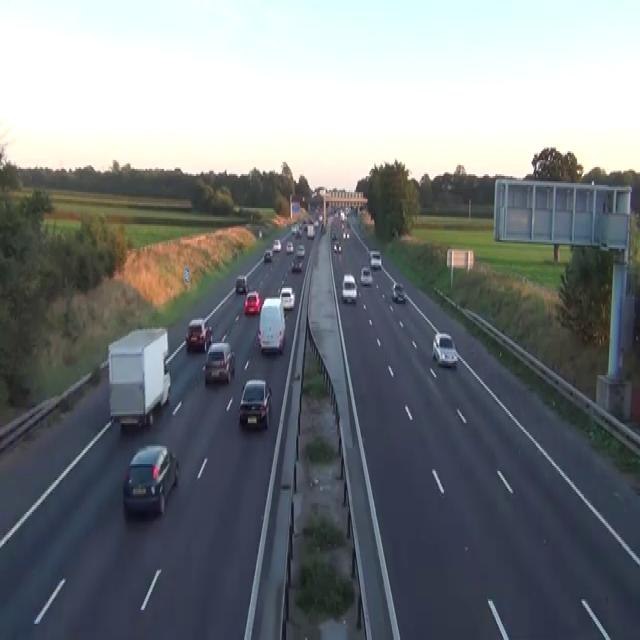Car: (122, 443, 179, 517), (238, 378, 272, 428), (202, 341, 235, 384), (185, 318, 212, 352), (432, 331, 457, 366), (331, 208, 350, 254), (341, 274, 357, 302), (243, 290, 261, 314), (279, 286, 295, 310), (391, 281, 405, 302), (235, 276, 247, 294), (360, 266, 372, 284), (370, 249, 381, 268), (291, 258, 302, 272), (333, 238, 342, 252), (306, 224, 315, 238), (272, 238, 281, 251), (285, 240, 293, 254), (263, 249, 272, 261), (296, 244, 305, 256), (291, 222, 297, 233), (339, 210, 345, 220), (343, 228, 349, 238), (331, 228, 336, 240), (313, 218, 319, 228), (301, 221, 307, 231), (294, 228, 301, 236), (344, 206, 349, 215), (334, 208, 339, 217), (258, 228, 262, 238)
Truck: (107, 326, 171, 428), (257, 297, 285, 354)
